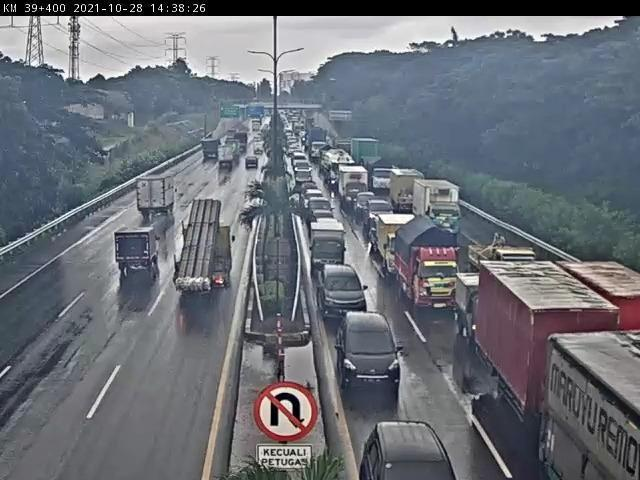car: (362, 423, 448, 480), (341, 319, 402, 384), (317, 267, 366, 316), (311, 224, 349, 270), (356, 191, 375, 220), (313, 211, 339, 232), (369, 198, 386, 228), (309, 195, 333, 213), (306, 187, 325, 203), (245, 155, 262, 172), (293, 151, 310, 167), (296, 170, 312, 186), (300, 179, 316, 193), (289, 144, 302, 156), (226, 129, 237, 143)
truck: (482, 265, 605, 407), (546, 330, 640, 480), (170, 198, 246, 301), (567, 247, 640, 333), (397, 220, 458, 310), (112, 222, 163, 281), (470, 236, 534, 279), (134, 163, 180, 220), (415, 183, 465, 228), (377, 210, 407, 276), (455, 271, 480, 341), (325, 150, 354, 193), (393, 170, 422, 213), (353, 134, 386, 170), (340, 166, 367, 209), (307, 124, 328, 160), (370, 166, 393, 194), (216, 142, 238, 169), (201, 134, 218, 158), (333, 136, 354, 152), (252, 133, 267, 155), (238, 130, 249, 150), (254, 119, 265, 135)
